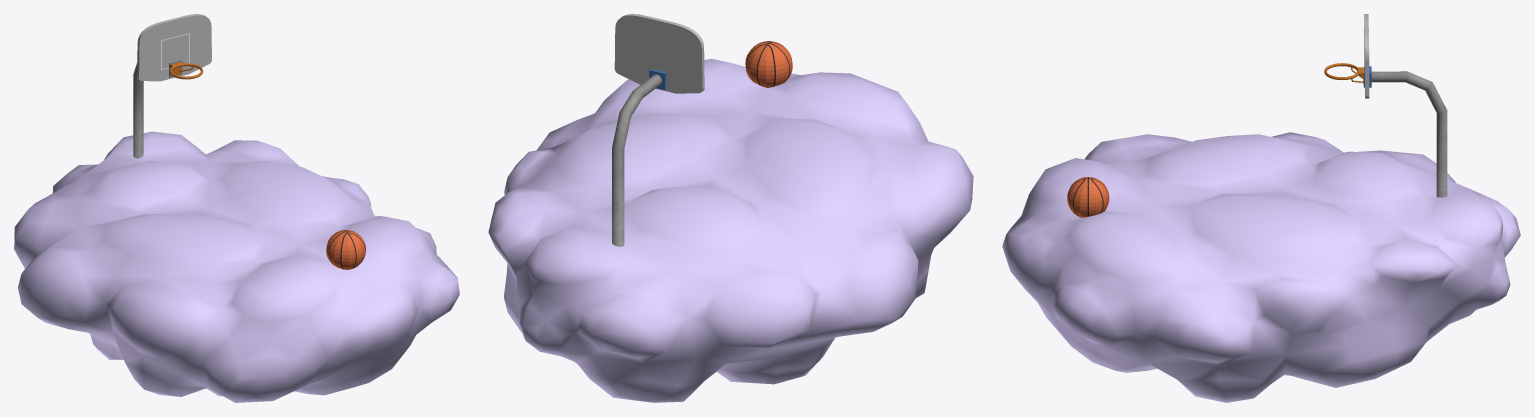
File: basketball-coloured-GIWWgqZJ.glb
3 views of the same model, side by side, from view 1: azimuth 30°, elevation 25°; view 2: azimuth 150°, elevation 25°; view 3: azimuth 270°, elevation 25° (orthographic). The views are drawn at different scales.
Parts seen in each view (by area): view 1: Object_3, Box002__0, BasketballBall_MainColor_0, Line001__0; view 2: Object_3, Box002__0, Line001__0, BasketballBall_MainColor_0; view 3: Object_3, Line001__0, BasketballBall_MainColor_0.
Boxes of the visible parts, bbox=[...] form: Object_3: bbox=[14, 131, 459, 402]; Box002__0: bbox=[137, 14, 211, 81]; BasketballBall_MainColor_0: bbox=[326, 230, 365, 269]; Line001__0: bbox=[133, 60, 182, 158]; Object_3: bbox=[488, 59, 973, 402]; Box002__0: bbox=[614, 14, 704, 93]; Line001__0: bbox=[612, 69, 666, 246]; BasketballBall_MainColor_0: bbox=[745, 41, 792, 87]; Object_3: bbox=[1002, 132, 1520, 402]; Line001__0: bbox=[1364, 66, 1447, 197]; BasketballBall_MainColor_0: bbox=[1067, 177, 1109, 217].
Size of the model in its own units: 12.18 by 10.53 by 14.54.
4 materials, 1 textured.
